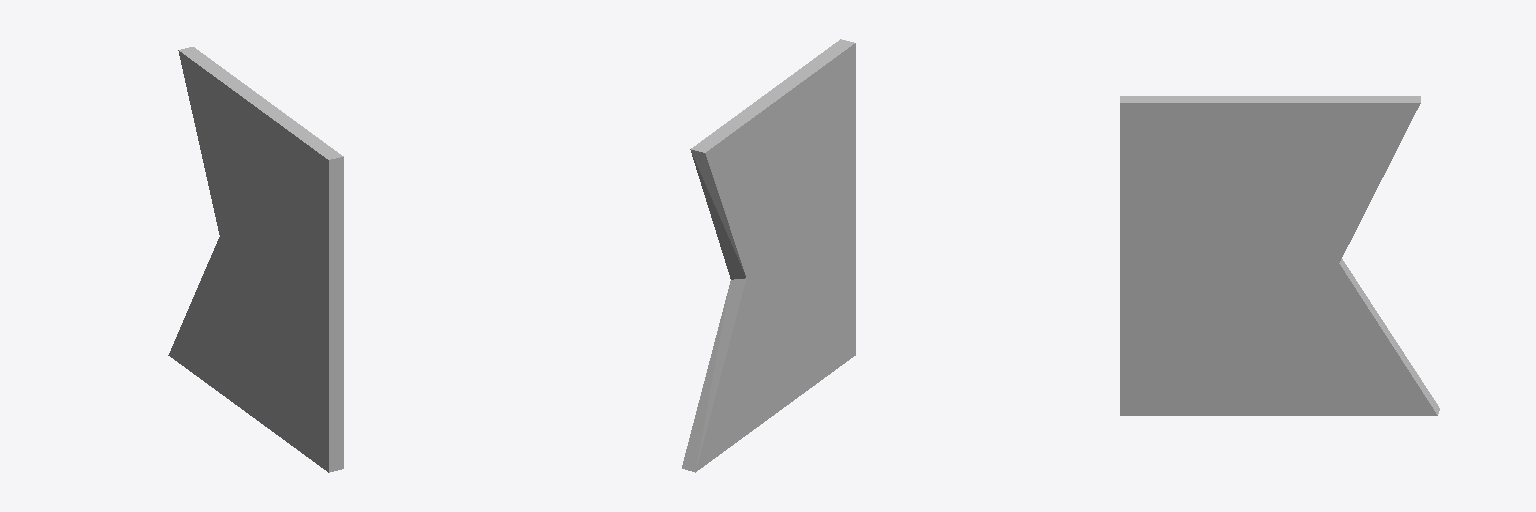
File: doorleft.obj
3 renders of one model, left to right at view 1: azimuth 30°, elevation 25°; view 2: azimuth 150°, elevation 25°; view 3: azimuth 270°, elevation 25°, orthographic.
Parts seen in each view (by area): view 1: Cube.002; view 2: Cube.002; view 3: Cube.002.
Part boxes in pixels (x1,y1,x2,y2): Cube.002: (168,47,343,472); Cube.002: (682,39,855,472); Cube.002: (1120,96,1439,415).
Bounding box in the file's own units: 0.5387 × 10.77 × 10.01.